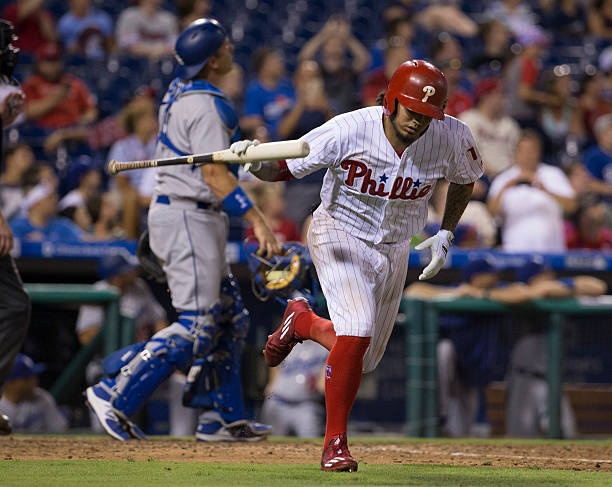bita: (109, 140, 316, 178)
